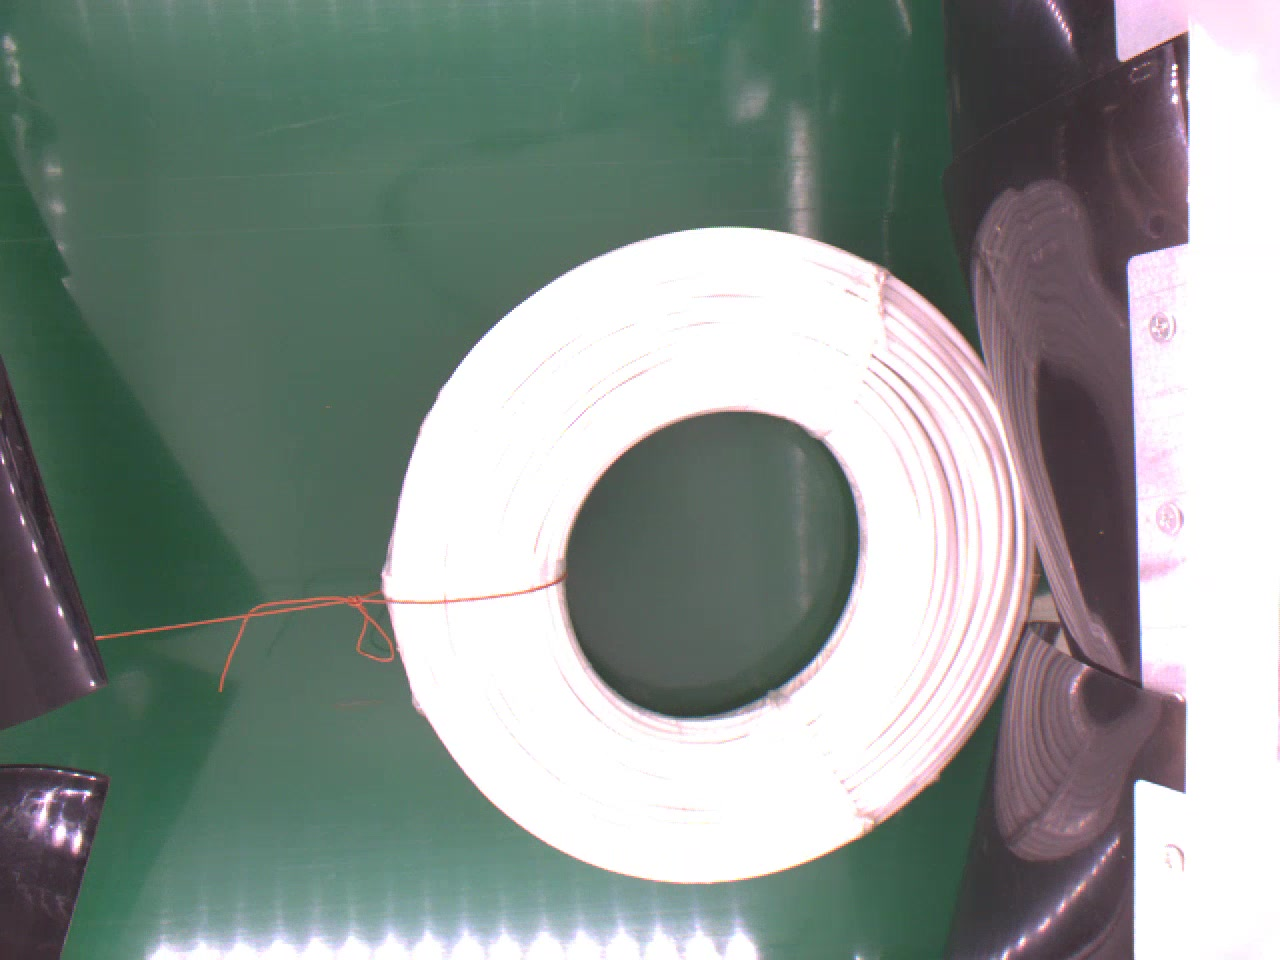white: (382, 224, 1038, 893)
